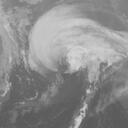cyclone: (28, 3, 117, 79)
